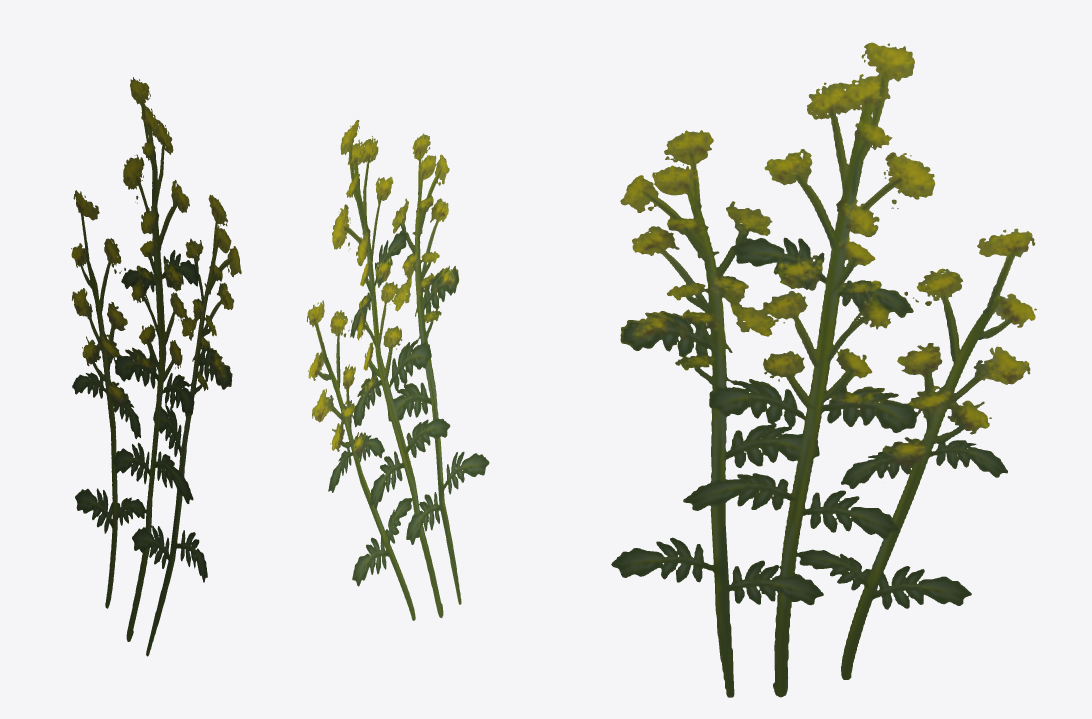
The model's file is Flower7.fbx.
3 renders of one model, left to right at view 1: azimuth 30°, elevation 25°; view 2: azimuth 150°, elevation 25°; view 3: azimuth 270°, elevation 25°, orthographic. The views are drawn at different scales.
Parts seen in each view (by area): view 1: Flower7; view 2: Flower7; view 3: Flower7.
Part boxes in pixels (x1,y1,x2,y2): Flower7: (71,77,241,656); Flower7: (307,120,489,620); Flower7: (611,42,1036,697).
Size of the model in its own units: 0.3358 by 3.03 by 2.02.
1 material, 1 textured.
